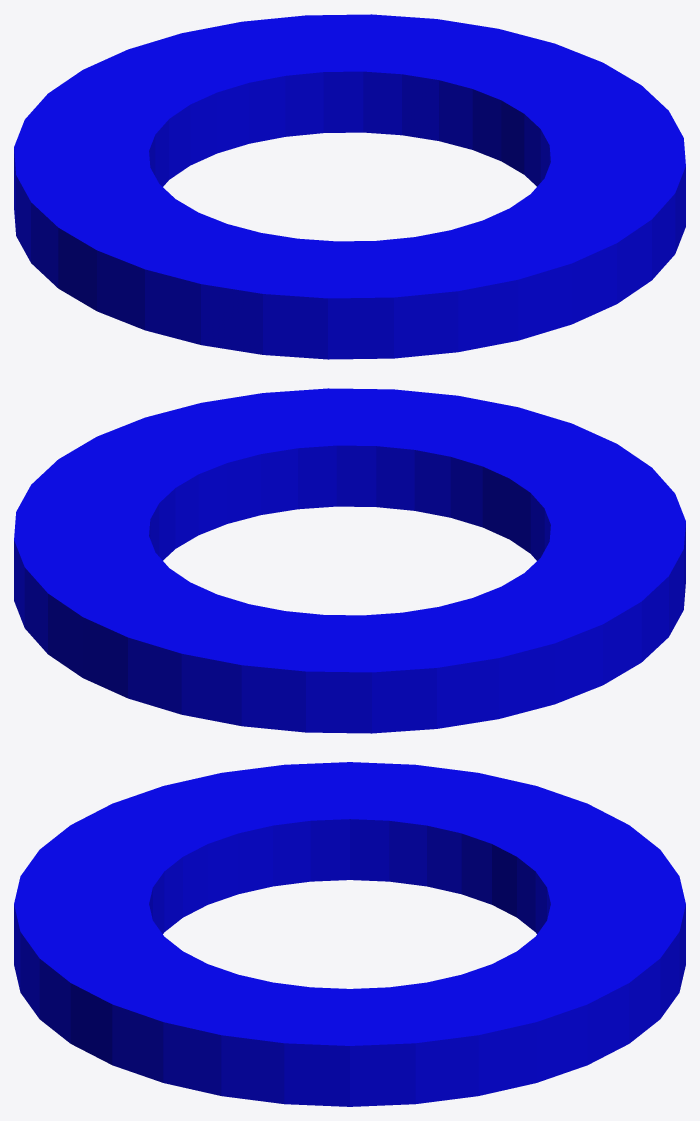
3 renders of one model, top to bottom at view 1: azimuth 30°, elevation 25°; view 2: azimuth 150°, elevation 25°; view 3: azimuth 270°, elevation 25°, orthographic.
Parts seen in each view (by area): view 1: Circle; view 2: Circle; view 3: Circle.
Part boxes in pixels (x1,y1,x2,y2): Circle: (14, 14, 685, 359); Circle: (14, 388, 685, 733); Circle: (14, 762, 685, 1106).
Bounding box in the file's own units: 1 × 0.1 × 1.
